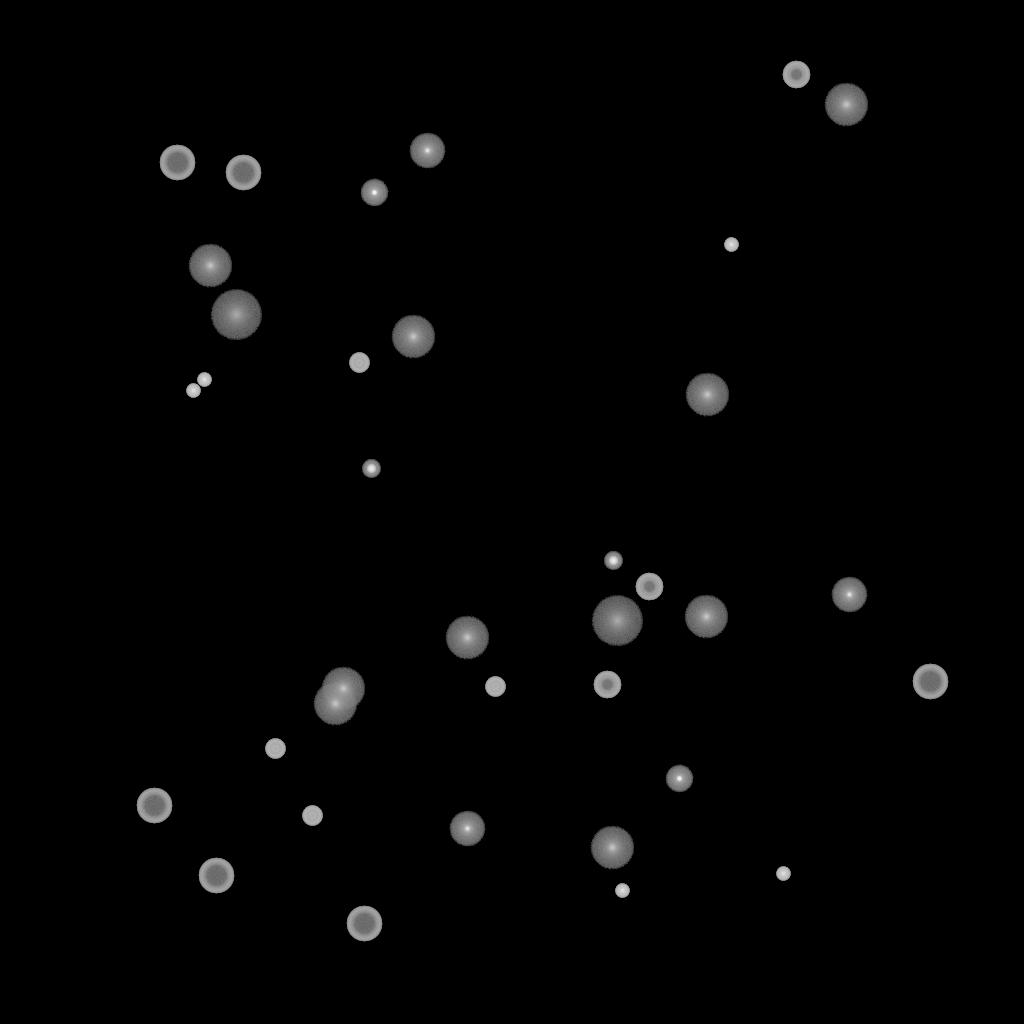depth:-10: (360, 179, 388, 207), (665, 765, 693, 793)
depth:-20: (362, 460, 380, 478), (604, 552, 622, 570)
depth:-30: (186, 384, 200, 398), (197, 373, 211, 387), (615, 884, 629, 898), (724, 238, 738, 252), (776, 867, 790, 881)
depth:-40: (302, 806, 322, 826), (265, 739, 285, 759), (485, 677, 505, 697), (349, 353, 369, 373)
depth:-50: (593, 671, 621, 699), (782, 61, 810, 89), (635, 573, 663, 601)
depth:-60: (198, 858, 234, 894), (159, 145, 195, 181), (912, 664, 948, 700), (346, 906, 382, 942), (225, 155, 261, 191), (136, 788, 172, 824)
depth:0: (409, 133, 445, 169), (449, 811, 485, 847), (831, 577, 867, 613)
depth:10: (824, 83, 868, 127), (685, 373, 729, 417), (188, 244, 232, 288), (684, 595, 728, 639), (590, 826, 634, 870), (391, 315, 435, 359), (321, 667, 365, 711), (313, 682, 357, 726), (445, 616, 489, 660)
depth:20: (210, 290, 262, 340), (591, 596, 643, 646)
